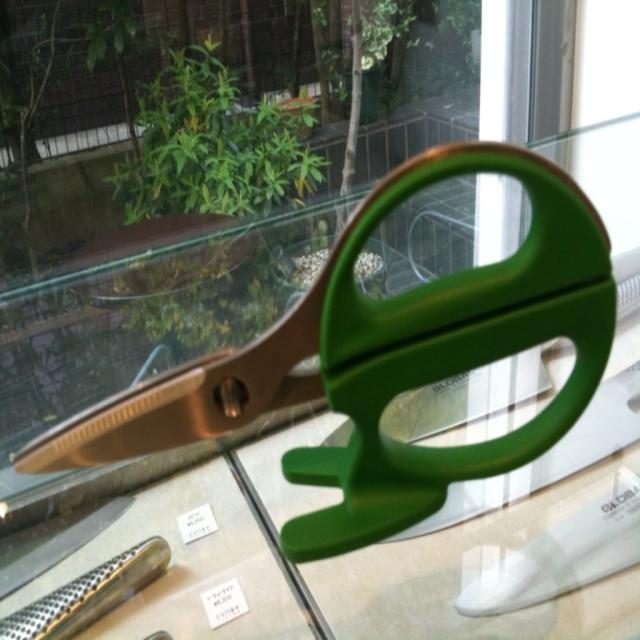scissors: (9, 138, 619, 564)
